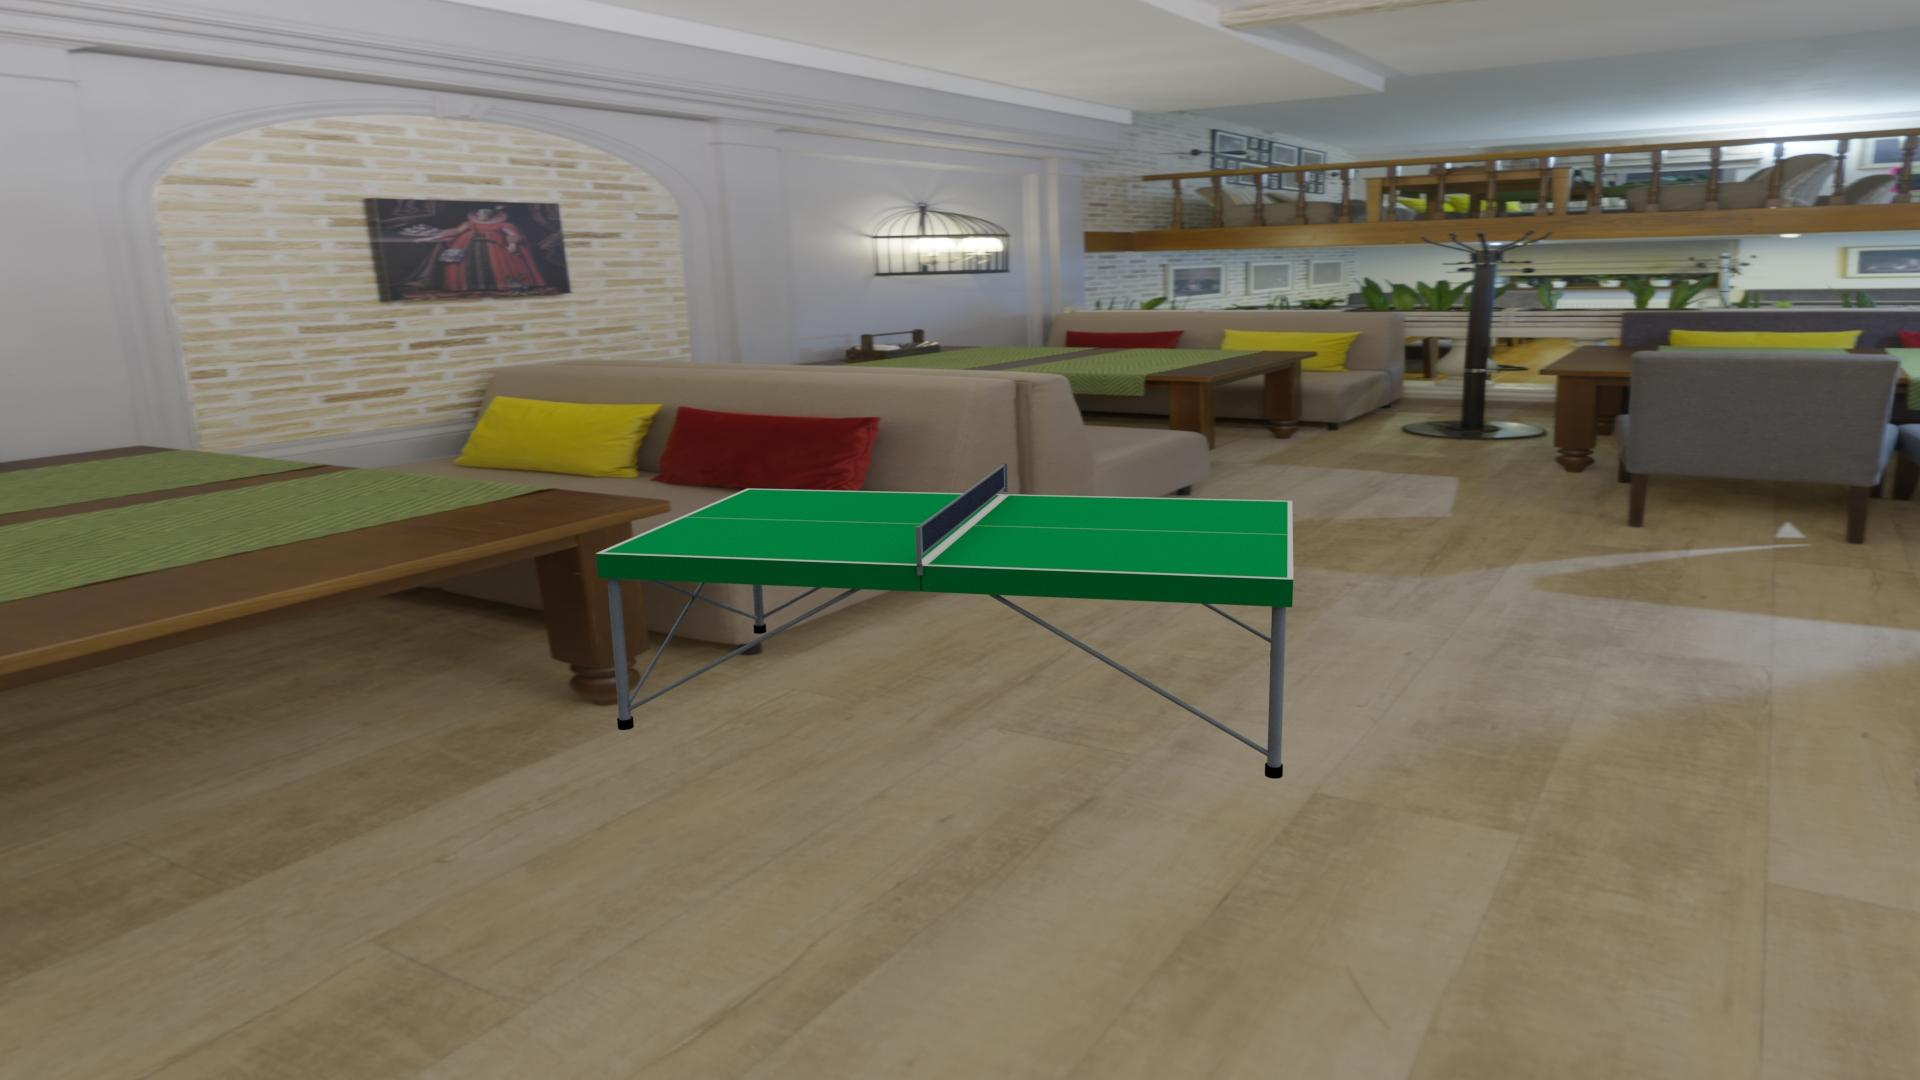table: (603, 489, 1288, 578)
